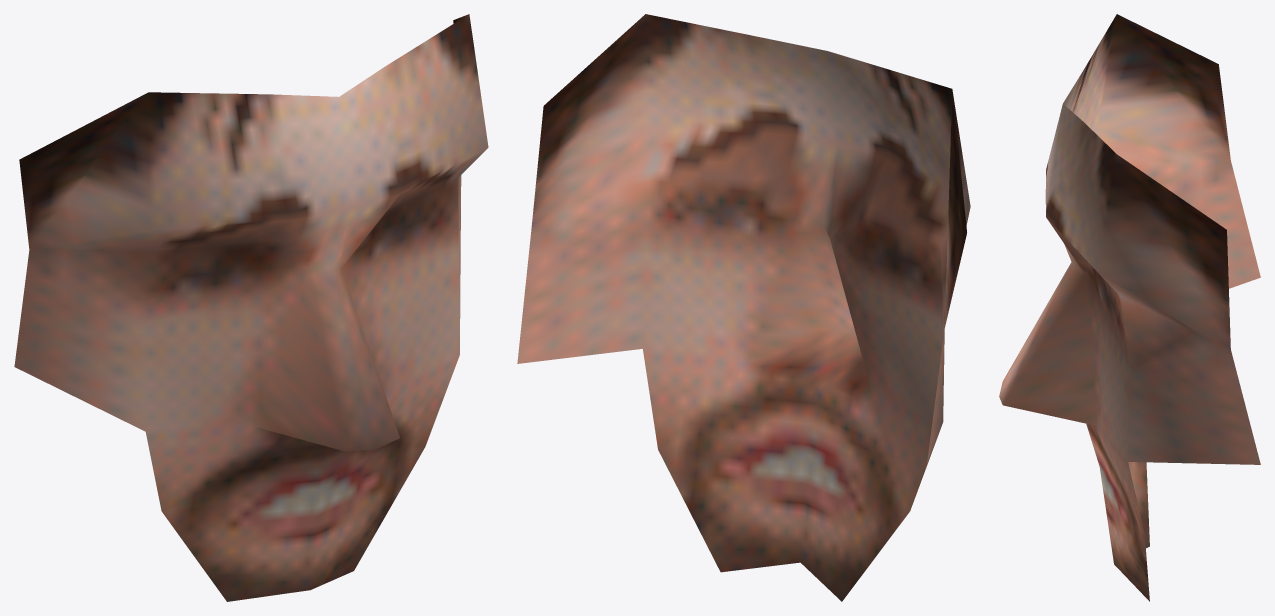
File: Player_Face.fbx
3 views of the same model, side by side, from view 1: azimuth 30°, elevation 25°; view 2: azimuth 150°, elevation 25°; view 3: azimuth 270°, elevation 25° (orthographic). The views are drawn at different scales.
Parts seen in each view (by area): view 1: Face; view 2: Face; view 3: Face.
Boxes of the visible parts, x1=… form: Face: x1=14, y1=14, x2=488, y2=601; Face: x1=517, y1=14, x2=970, y2=601; Face: x1=999, y1=14, x2=1260, y2=601.
Size of the model in its own units: 14.19 by 16.52 by 8.
